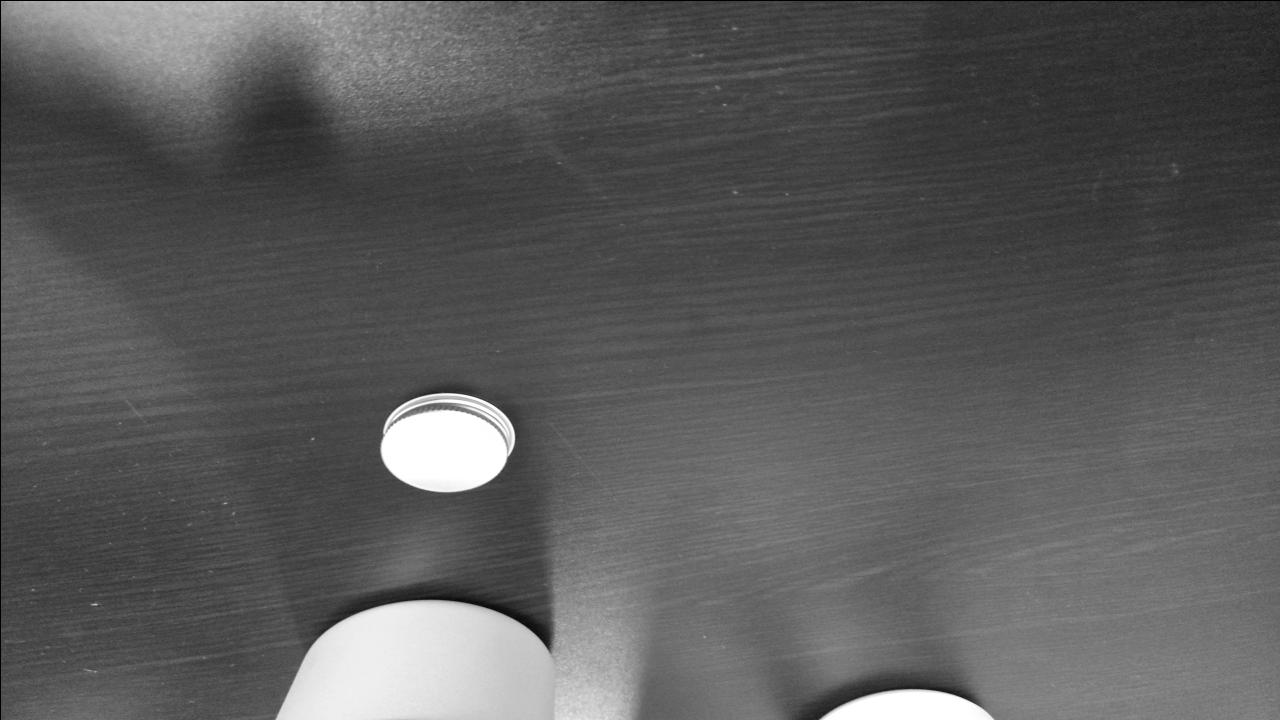bottle_cap: (376, 392, 515, 494)
